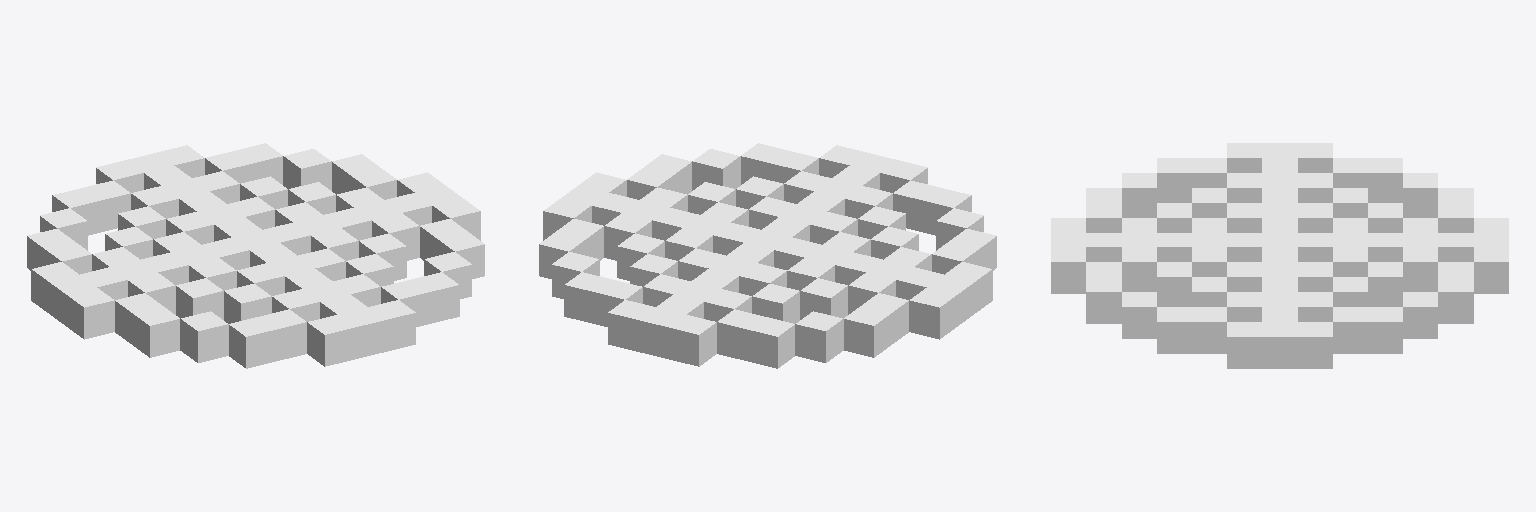
File: ChronoRepeater.obj
3 renders of one model, left to right at view 1: azimuth 30°, elevation 25°; view 2: azimuth 150°, elevation 25°; view 3: azimuth 270°, elevation 25°, orthographic.
Visible parts, largest first — view 1: object 1; view 2: object 1; view 3: object 1.
Part boxes in pixels (bbox=[...]): object 1: bbox=[27, 143, 484, 368]; object 1: bbox=[539, 143, 996, 368]; object 1: bbox=[1051, 143, 1508, 368].
Bounding box in the file's own units: 1.3 × 0.1 × 1.3.